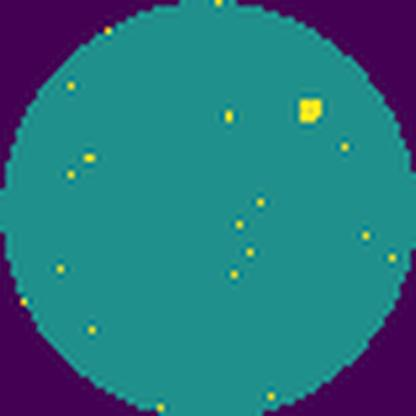Loc: (294, 96, 326, 125)
